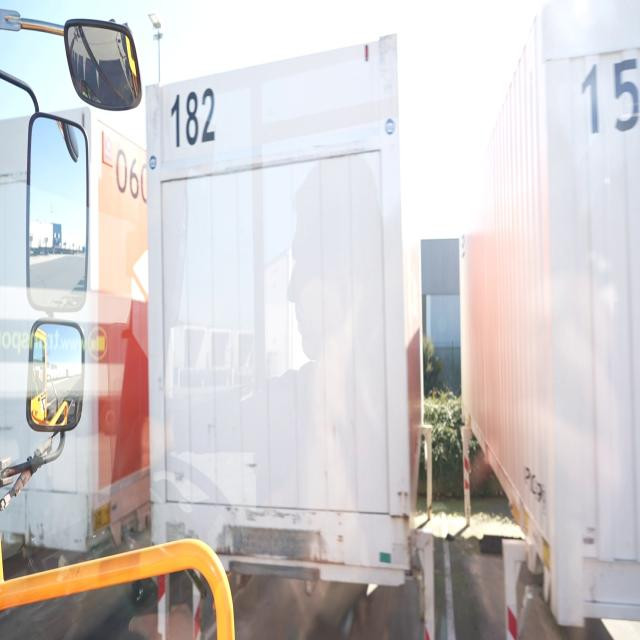Code: (170, 76, 220, 146)
